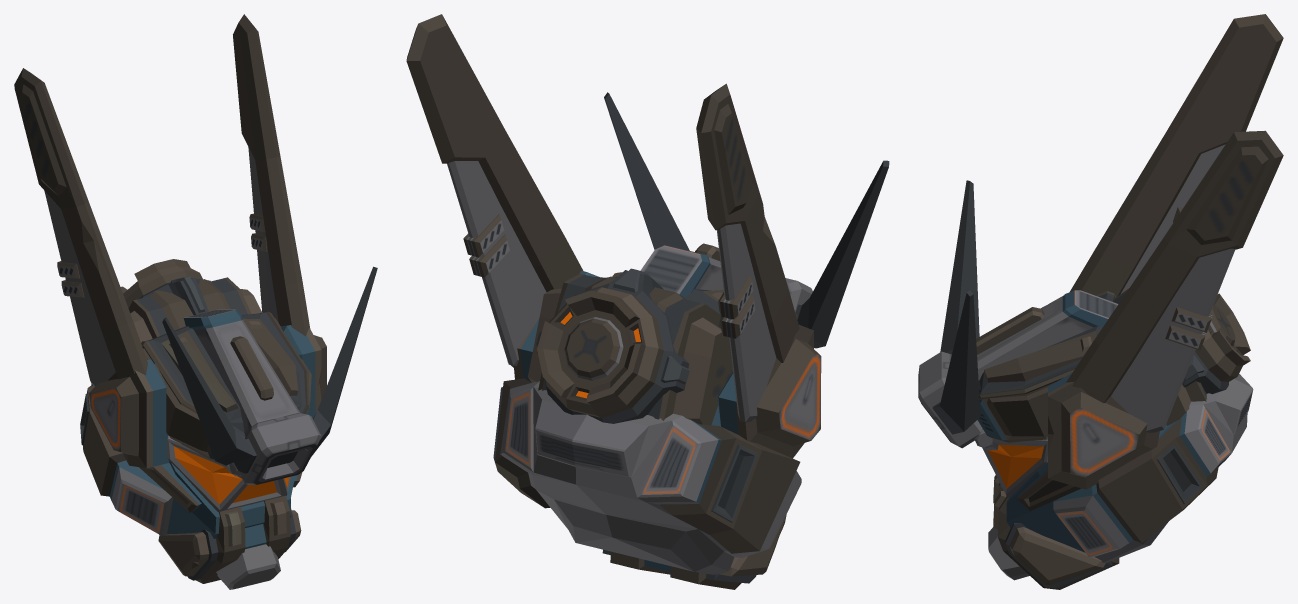
Rendered from SM_Mech_Head_01_Armor_Helmet_07.fbx.
3 views of the same model, side by side, from view 1: azimuth 30°, elevation 25°; view 2: azimuth 150°, elevation 25°; view 3: azimuth 270°, elevation 25° (orthographic). The views are drawn at different scales.
Parts seen in each view (by area): view 1: SM_Mech_Head_01_Armor_Helmet_07; view 2: SM_Mech_Head_01_Armor_Helmet_07; view 3: SM_Mech_Head_01_Armor_Helmet_07.
Boxes of the visible parts, x1,y1,x2,y2 form: SM_Mech_Head_01_Armor_Helmet_07: (14, 14, 377, 589); SM_Mech_Head_01_Armor_Helmet_07: (406, 14, 889, 589); SM_Mech_Head_01_Armor_Helmet_07: (918, 14, 1283, 589).
Bounding box in the file's own units: 63.32 × 120 × 79.25.
